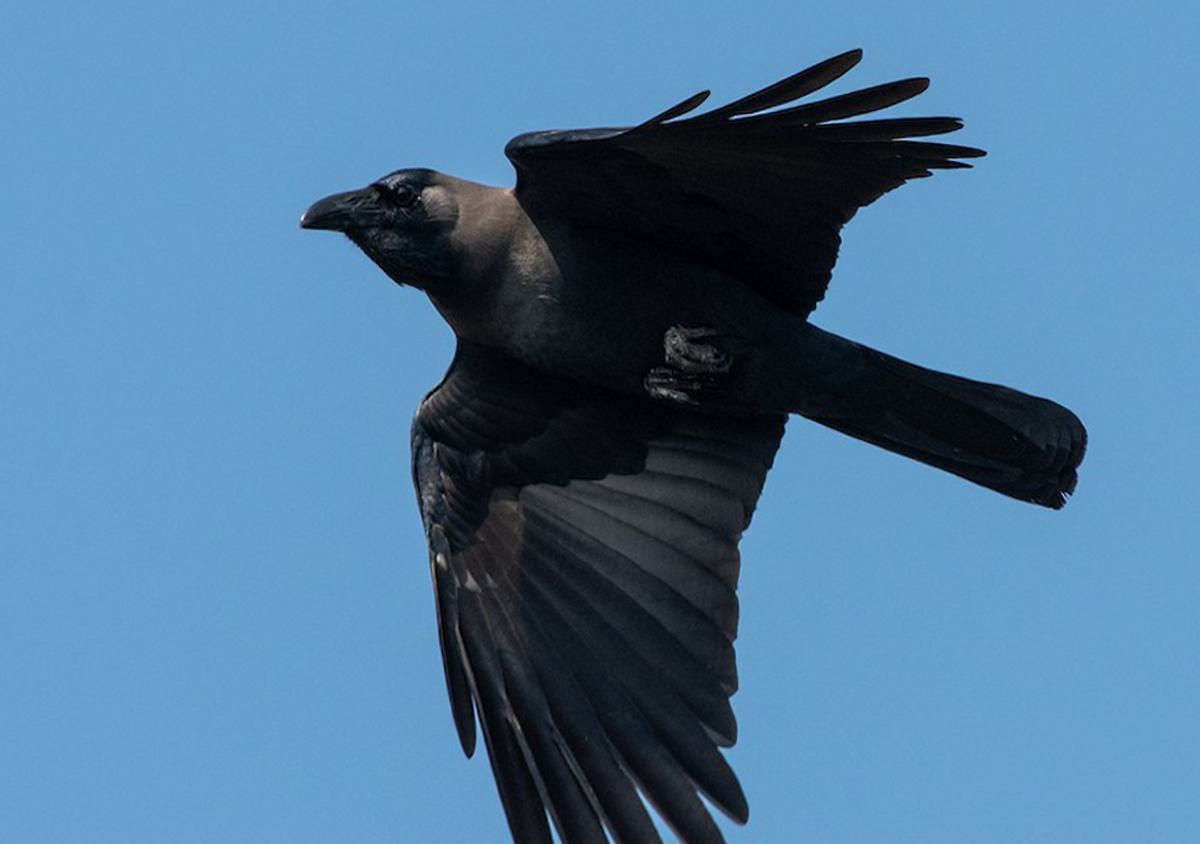crow: (293, 48, 1106, 844)
